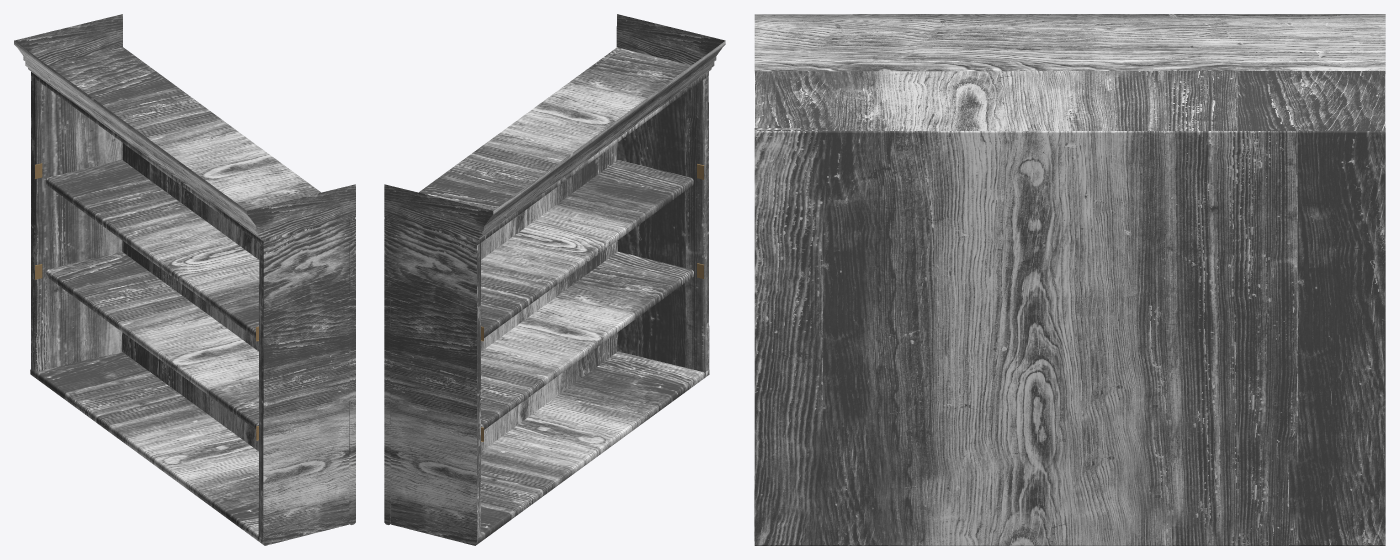
File: SM_KitchenSet_B3.fbx
3 views of the same model, side by side, from view 1: azimuth 30°, elevation 25°; view 2: azimuth 150°, elevation 25°; view 3: azimuth 270°, elevation 25° (orthographic). The views are drawn at different scales.
Visible parts, largest first — view 1: SM_KitchenSet_B3; view 2: SM_KitchenSet_B3; view 3: SM_KitchenSet_B3.
Part boxes in pixels (x1,y1,x2,y2): SM_KitchenSet_B3: (14, 14, 355, 545); SM_KitchenSet_B3: (384, 14, 725, 545); SM_KitchenSet_B3: (754, 14, 1385, 545).
Bounding box in the file's own units: 32.54 × 120 × 96.73.
Materials: 2 (2 with a texture image).
